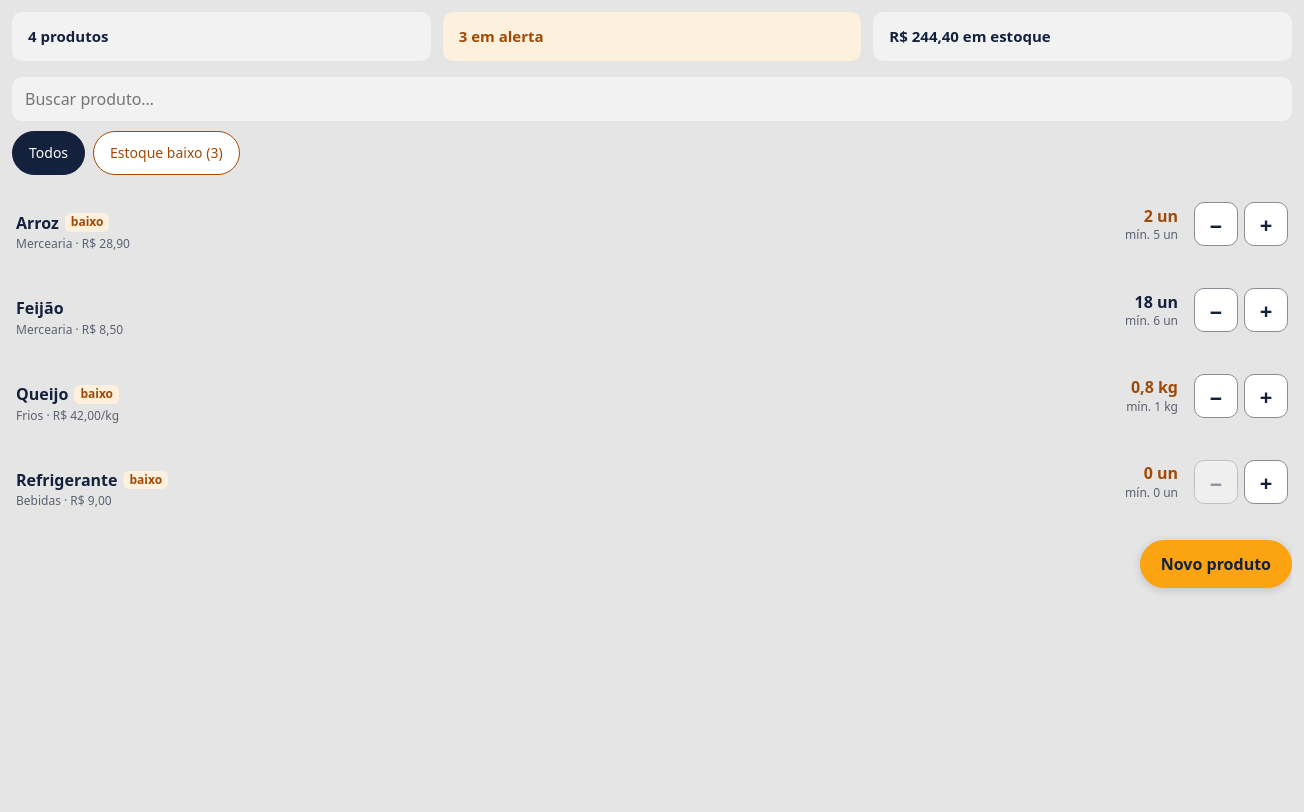
Test: clicar no bloco de alerta liga o mesmo filtro
What coordinates should you click on to do the following:
click the button "3 em alerta"
I would click on:
 (505, 36)
Its box is [443,12,861,61].
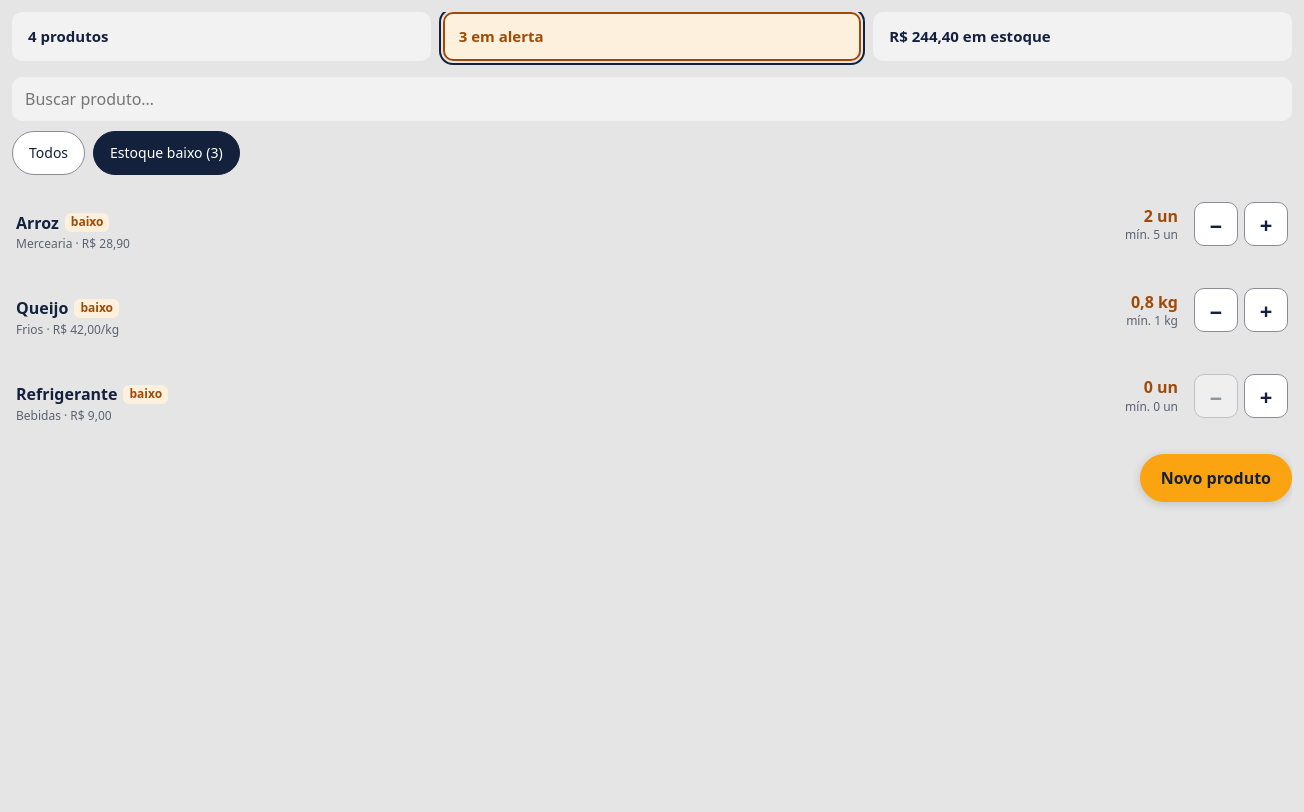
Now the button "Feijão" is gone
